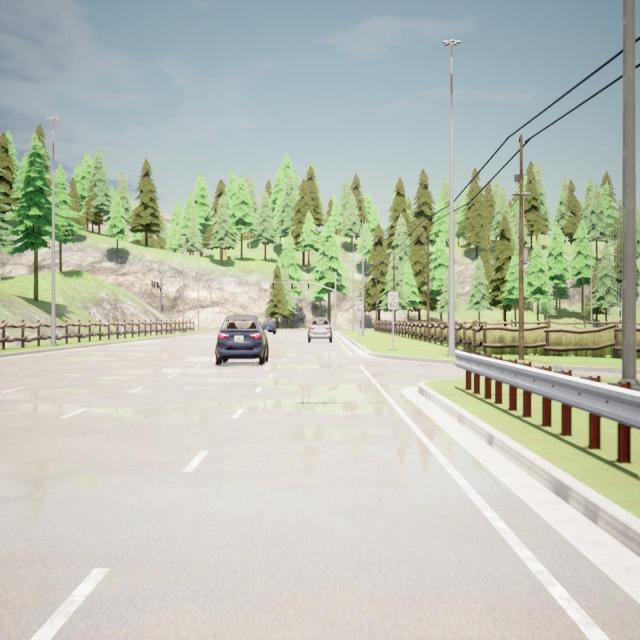Traffic_Signs: (388, 294, 398, 310)
Vehicle: (216, 315, 268, 365), (308, 317, 333, 343), (263, 319, 277, 336)
traffic_light: (272, 282, 274, 290), (152, 280, 154, 288), (156, 282, 158, 289), (291, 283, 293, 290), (308, 283, 309, 290), (154, 282, 155, 288)
